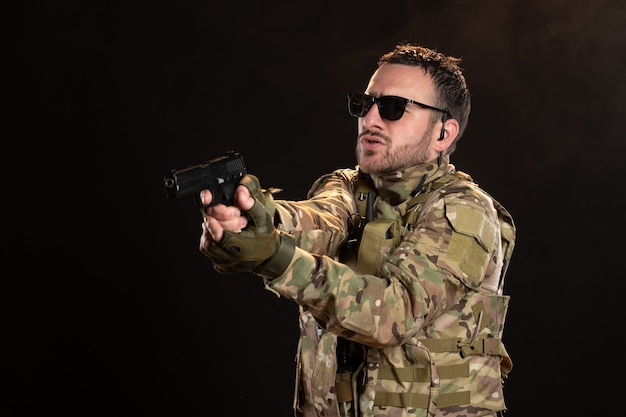gun: (164, 150, 258, 229)
